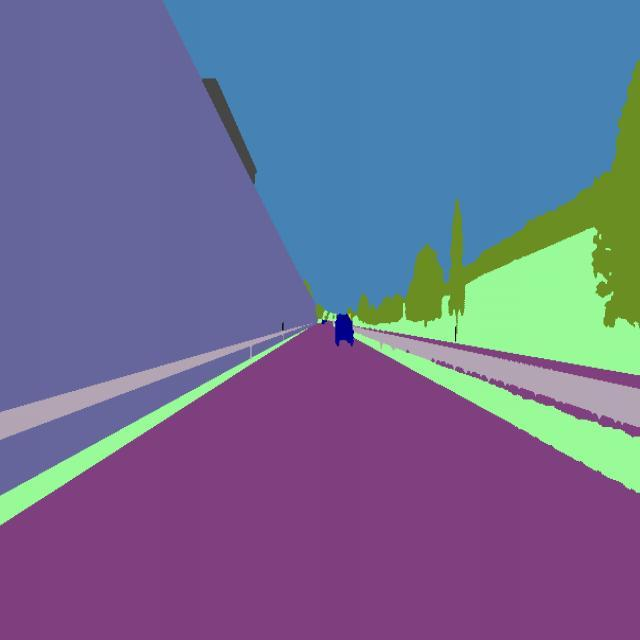safe: (332, 308, 357, 352)
